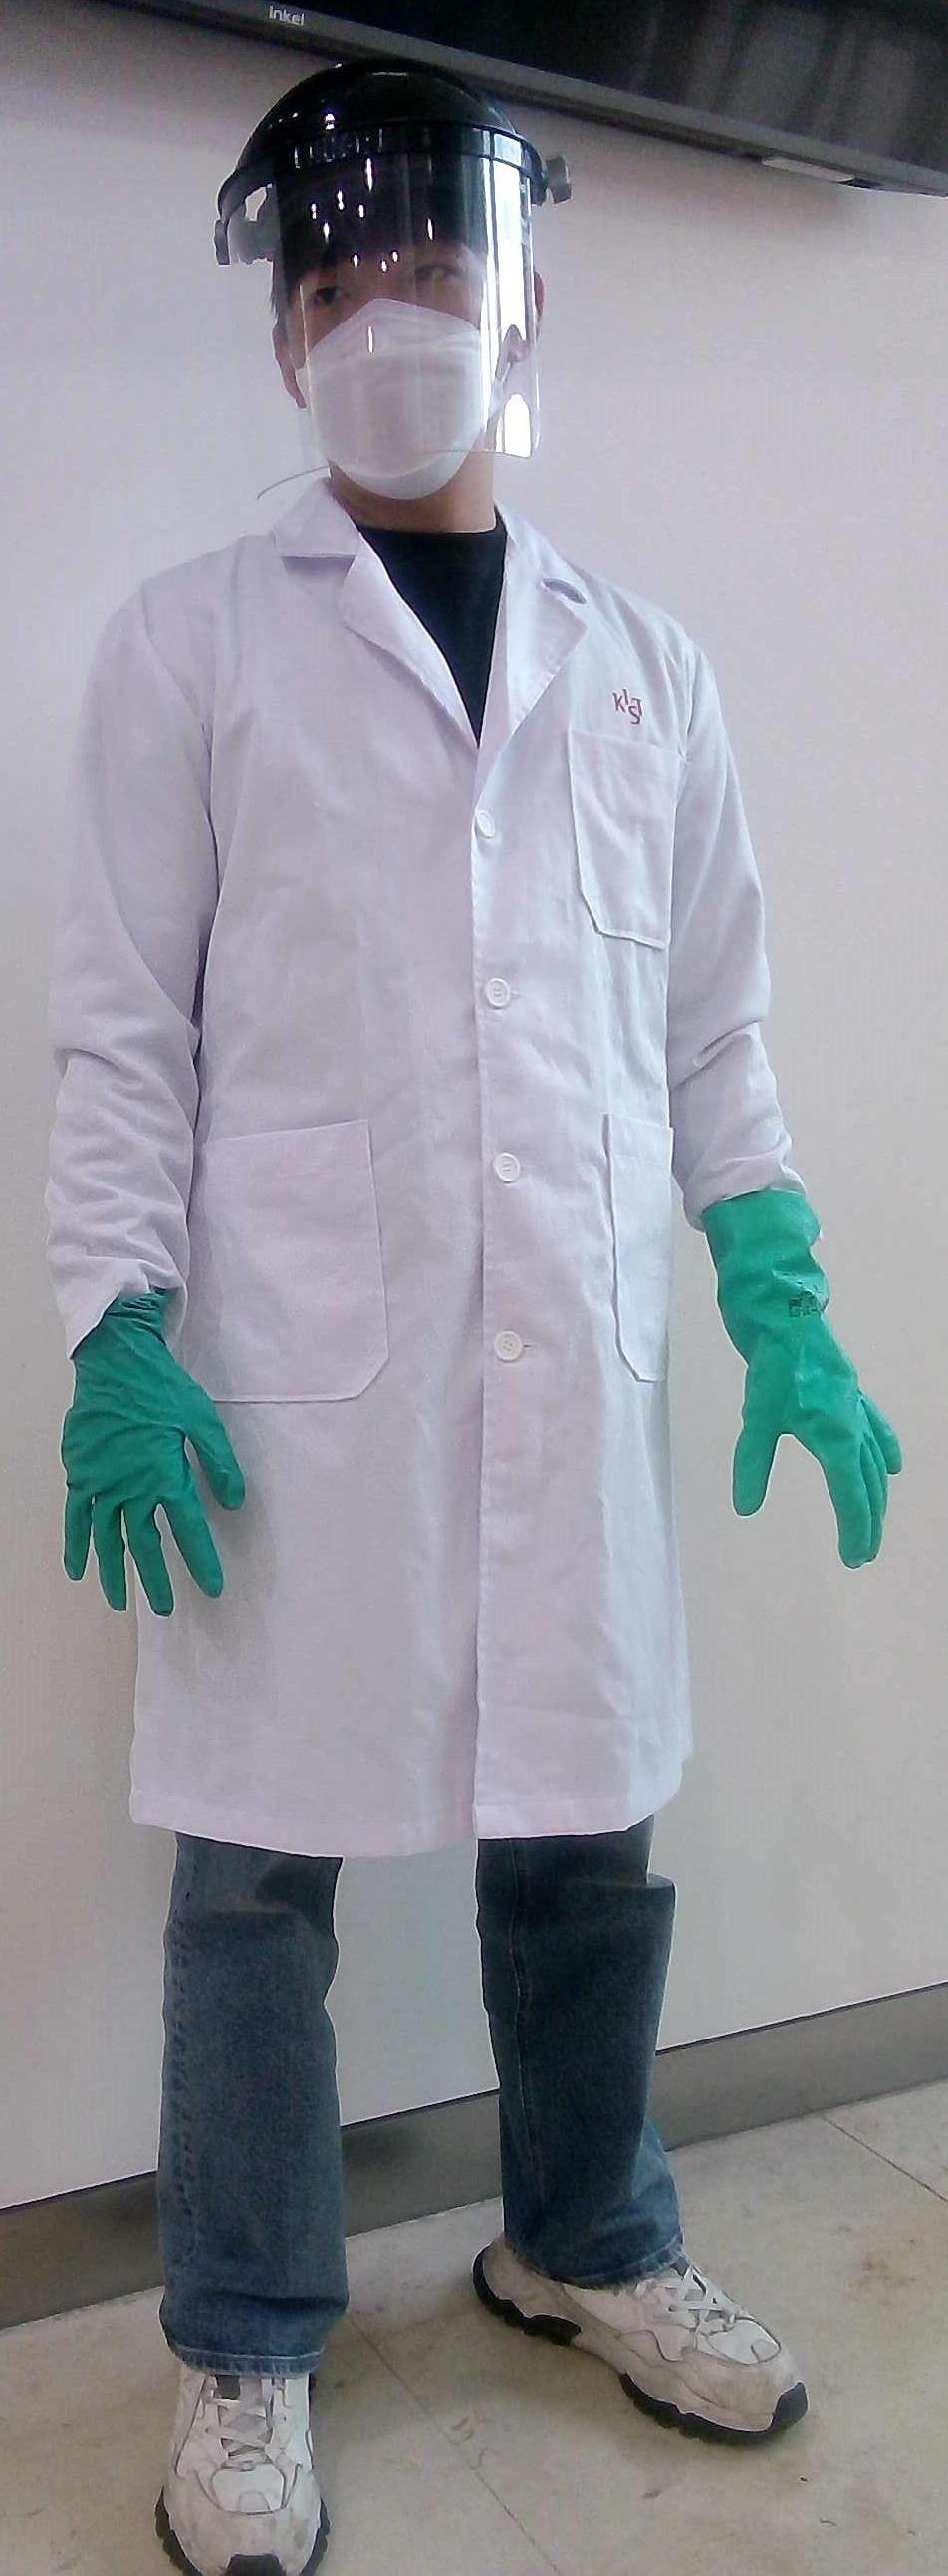lab_coat: (220, 534, 682, 1833)
